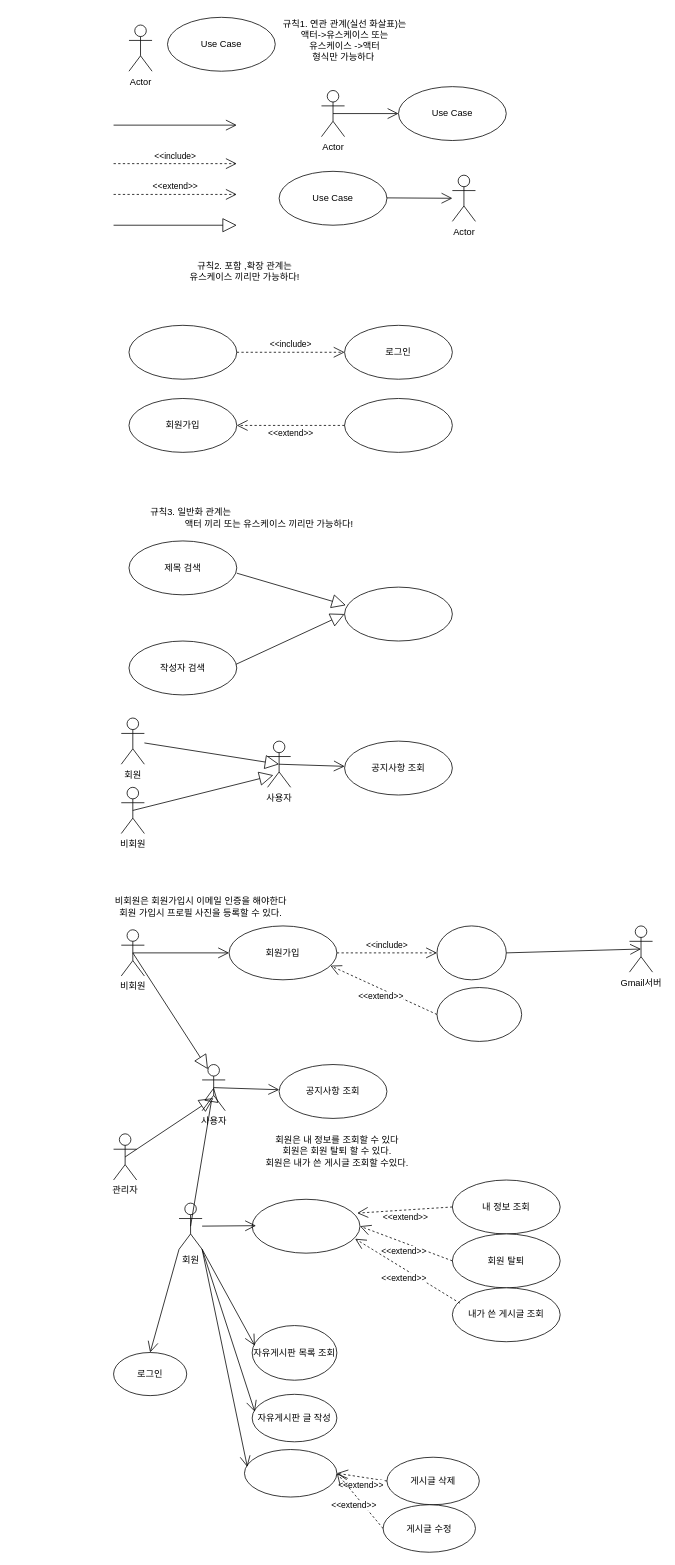
Image size: 675x1565. Some labels were removed from this diagram. Each missing label, with the centre of its shape:
게시글 검색: pixel 398 613
내정보 조회: pixel 182 352
마이 페이지: pixel 305 1226
이메일인증: pixel 471 952
자유 게시판 글 상세조회: pixel 290 1473
프로필 사진 등록: pixel 398 425
프로필사진 등록: pixel 479 1014
